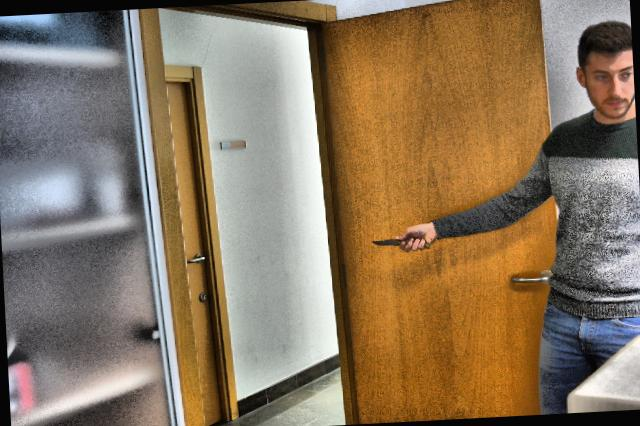knife: (368, 234, 431, 254)
